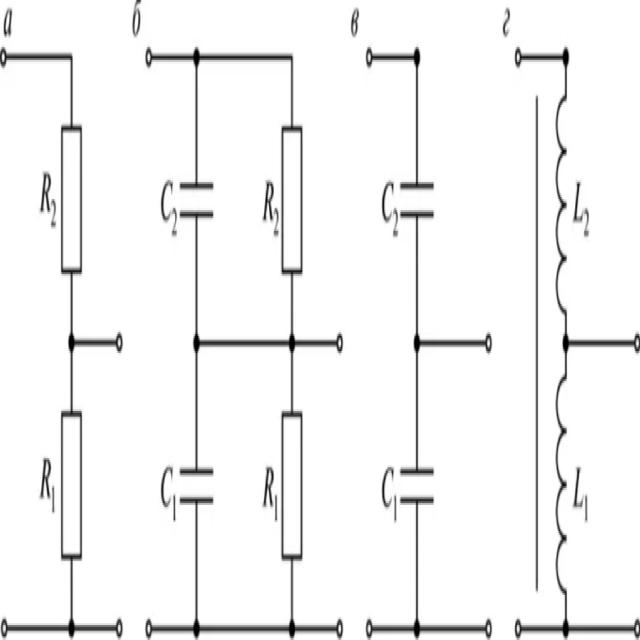cap: (398, 458, 439, 514), (178, 174, 220, 228), (177, 455, 217, 509), (398, 172, 438, 225)
ind: (552, 368, 572, 602), (554, 82, 572, 321)
net: (8, 51, 74, 68), (289, 50, 296, 136), (68, 48, 74, 134)
net_node: (152, 614, 336, 640), (191, 329, 336, 357), (153, 42, 294, 68), (373, 617, 485, 640), (8, 618, 116, 640), (522, 618, 634, 637), (193, 202, 200, 479), (414, 206, 421, 478), (561, 329, 634, 355), (413, 330, 485, 354), (522, 44, 570, 69), (192, 43, 200, 192), (67, 330, 116, 353), (558, 301, 572, 380), (68, 264, 75, 419), (373, 45, 422, 67), (413, 43, 420, 193), (413, 491, 420, 640), (193, 494, 200, 640), (289, 261, 295, 422), (288, 547, 297, 640), (68, 551, 75, 640), (561, 582, 571, 640), (562, 43, 570, 107)
res: (56, 404, 86, 576), (277, 410, 306, 564), (58, 119, 85, 282), (278, 117, 305, 280)
